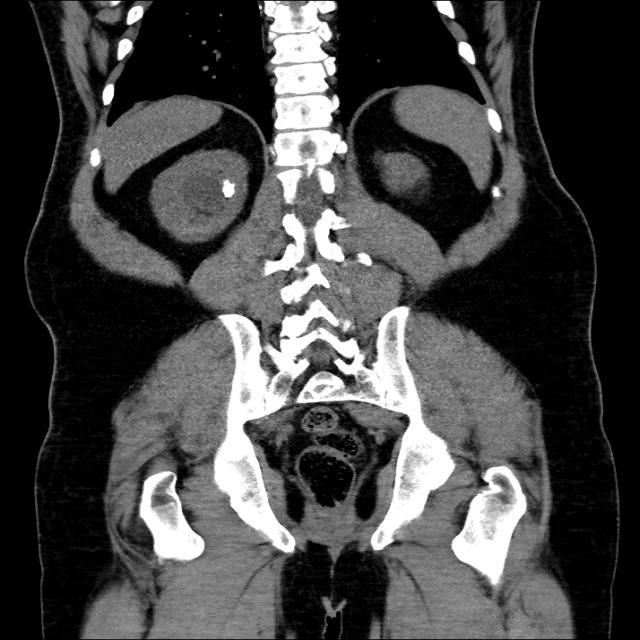kidneystone: (222, 179, 235, 198)
